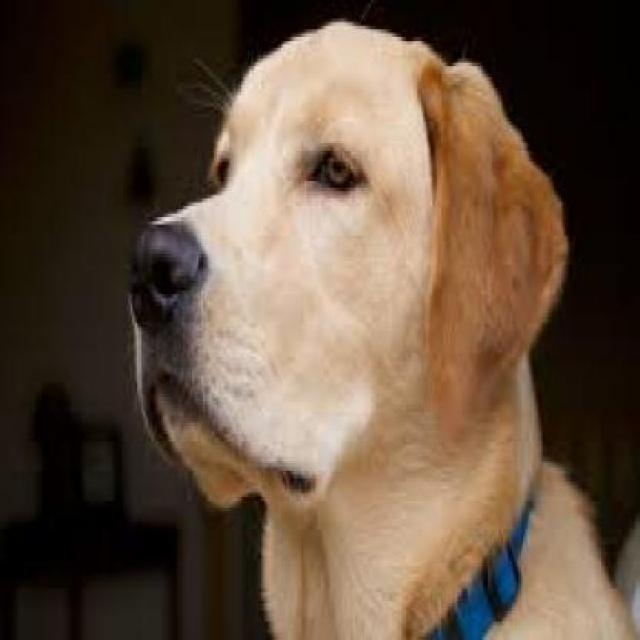animals: (121, 7, 618, 639)
